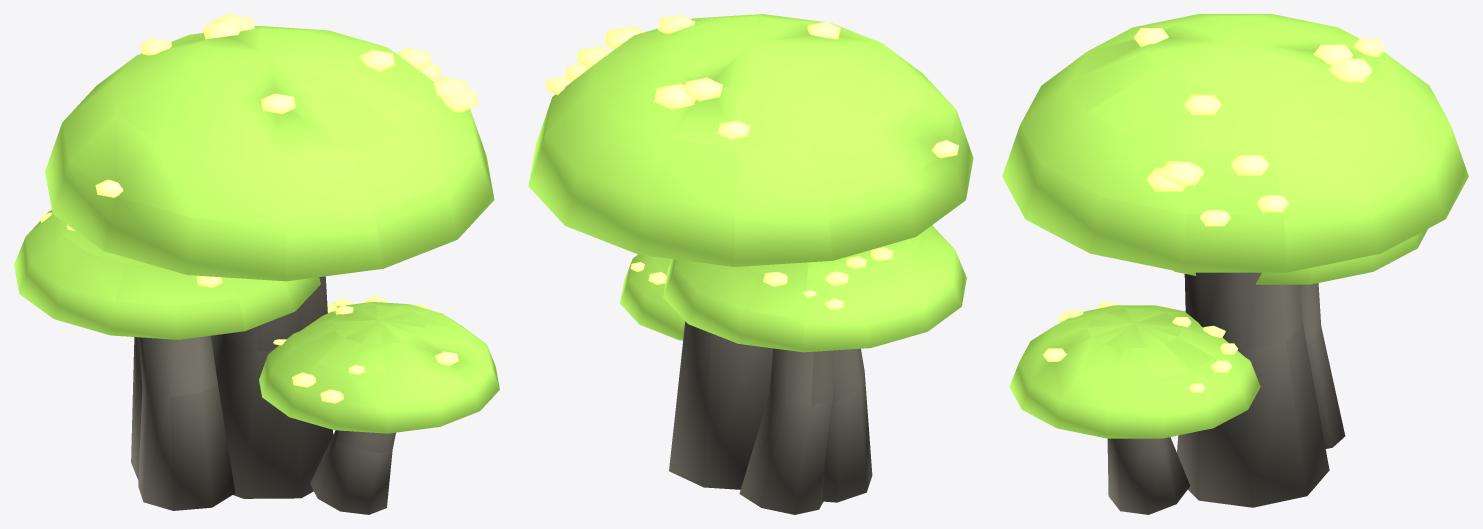
The model's file is obj_oficio_nido_3.glb.
The picture shows the model from 3 angles, left to right: view 1: azimuth 30°, elevation 25°; view 2: azimuth 150°, elevation 25°; view 3: azimuth 270°, elevation 25°; orthographic projection. The views are drawn at different scales.
Visible parts, largest first — view 1: propforge-libre-oficio_nido; view 2: propforge-libre-oficio_nido; view 3: propforge-libre-oficio_nido.
Part boxes in pixels (x1,y1,x2,y2): propforge-libre-oficio_nido: (14,14,499,514); propforge-libre-oficio_nido: (528,14,973,514); propforge-libre-oficio_nido: (1002,14,1468,514).
Bounding box in the file's own units: 0.7383 × 0.7338 × 0.7089.
